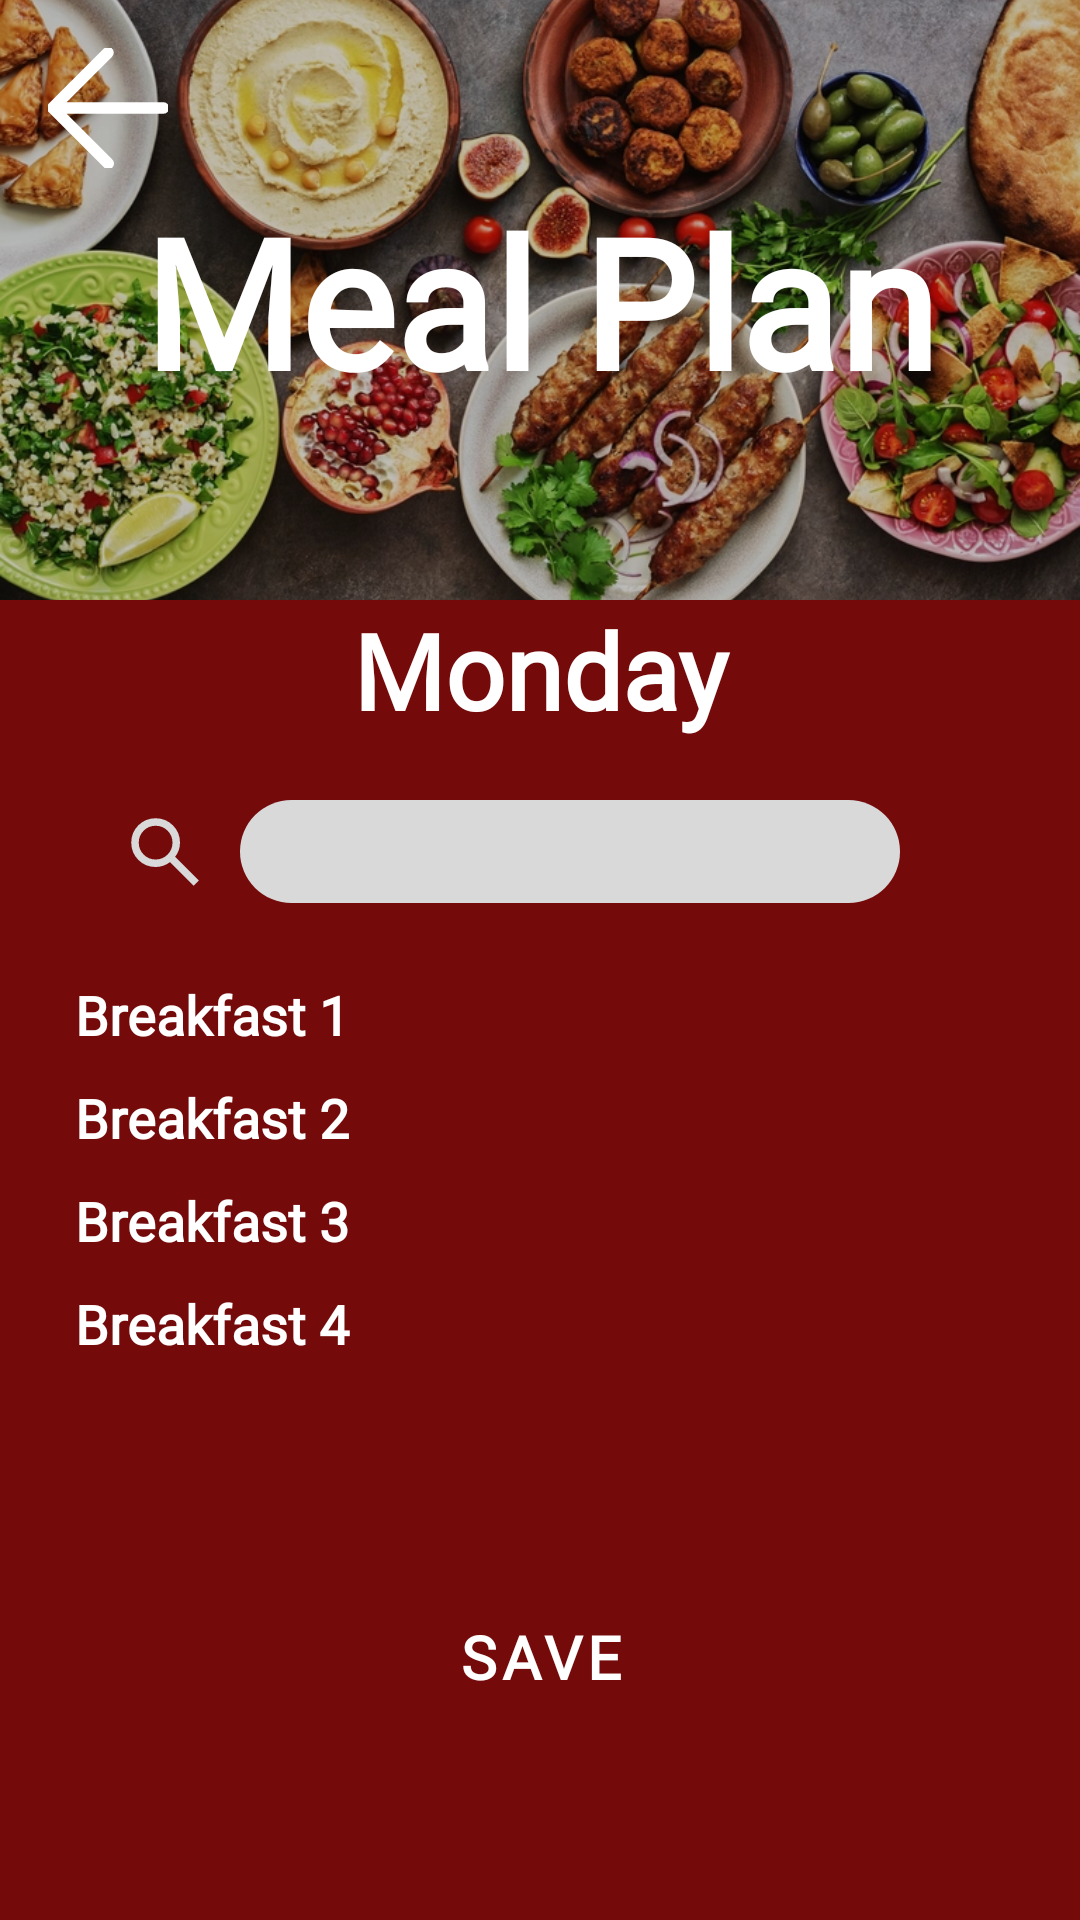

Where to tap for icons on this 1080px×1920px app screen, as [x,y]:
vectorsearch: [165,852]
